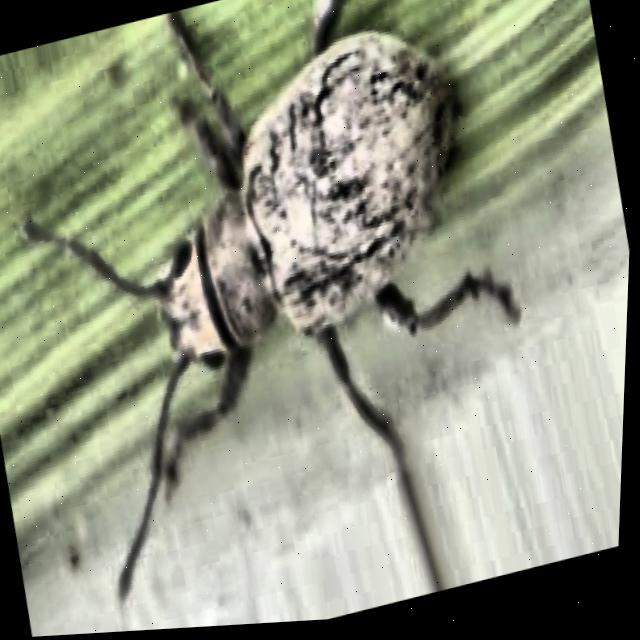Stink bug: (0, 0, 582, 640)
